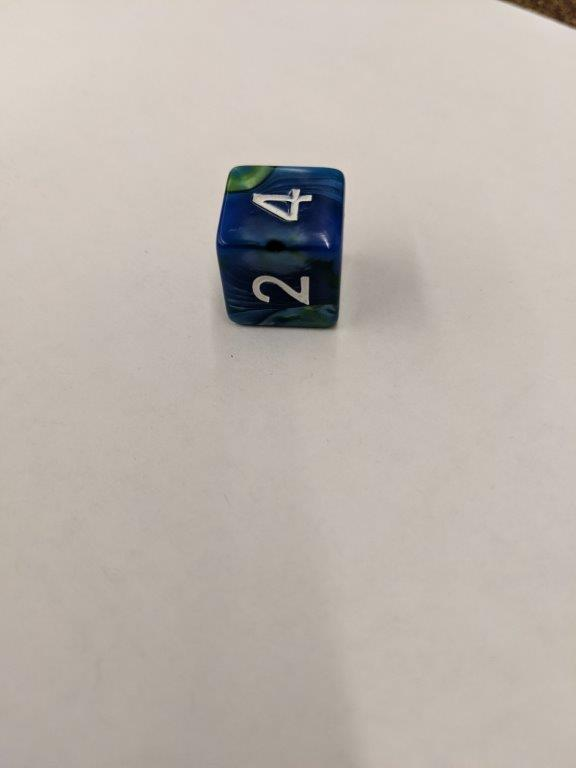d6-4: (212, 163, 346, 333)
